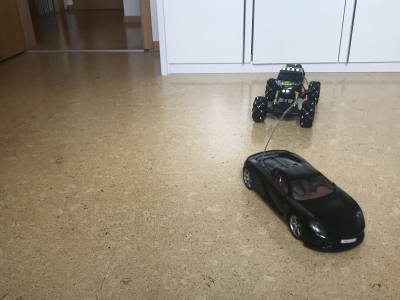remote control car: (248, 56, 324, 128)
